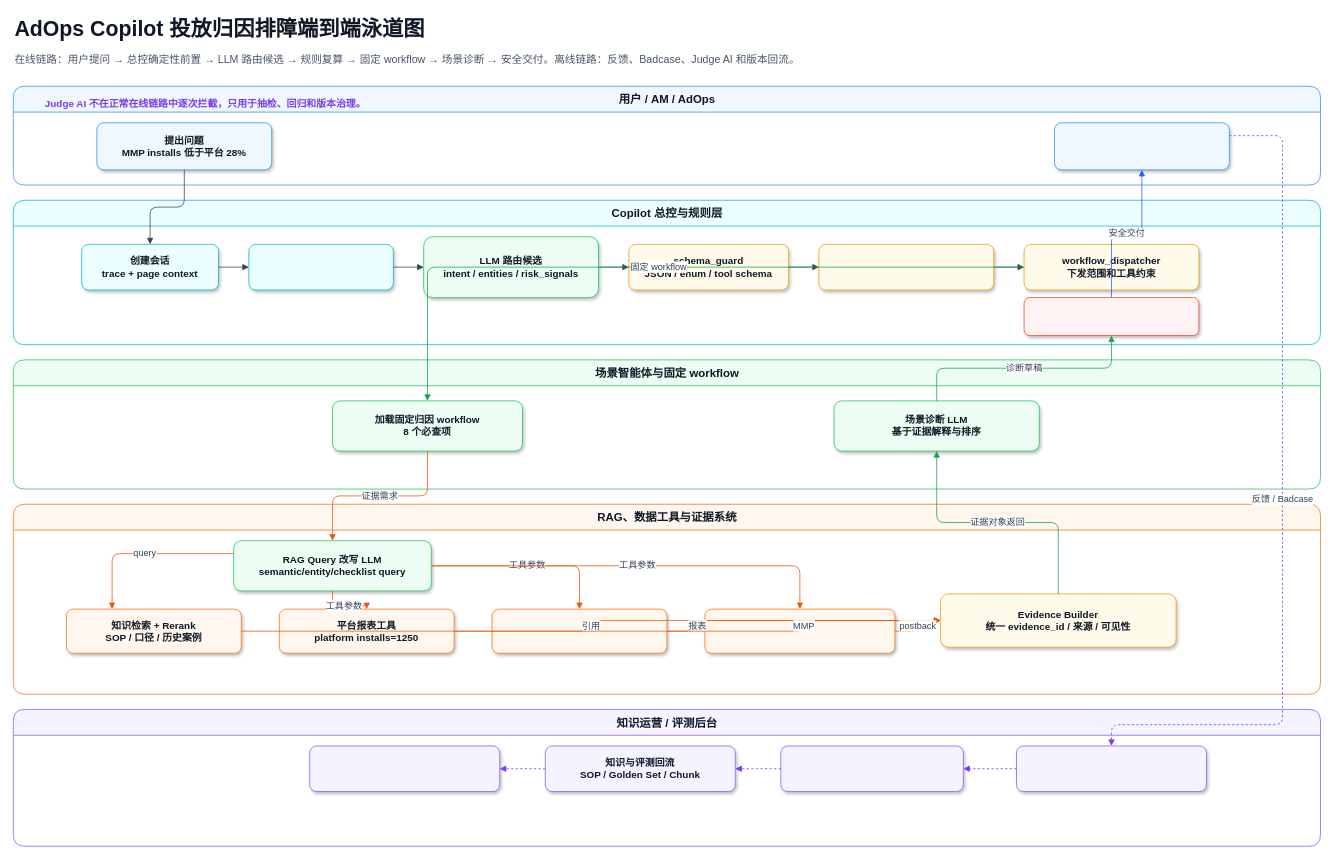
This 1334x860 diagram has some shape labels left out. The centre of each missing label's shape, as x and y in pixels:
"Badcase 记录 无效 / 漏项 / 检索错 / 数据错" goes at point 1112,769.
"delivery_guard 规则拦截 + 脱敏决策" goes at point 1111,317.
"Judge AI 离线评测 灰度 / 回归 / 抽检" goes at point 872,769.
"MMP 归因报表 mmp installs=900" goes at point 579,632.
"Postback 摘要 success=92.4% / delay=6.8%" goes at point 800,632.
"pre_guard 登录态 / RBAC / 敏感词" goes at point 321,268.
"Prompt / 工具 / 规则更新 版本 / 灰度 / 回滚" goes at point 405,769.
"rule_normalizer risk_final / confidence_final" goes at point 906,268.
"查看诊断卡 采纳 / 追问 / 升级" goes at point 1142,147.
